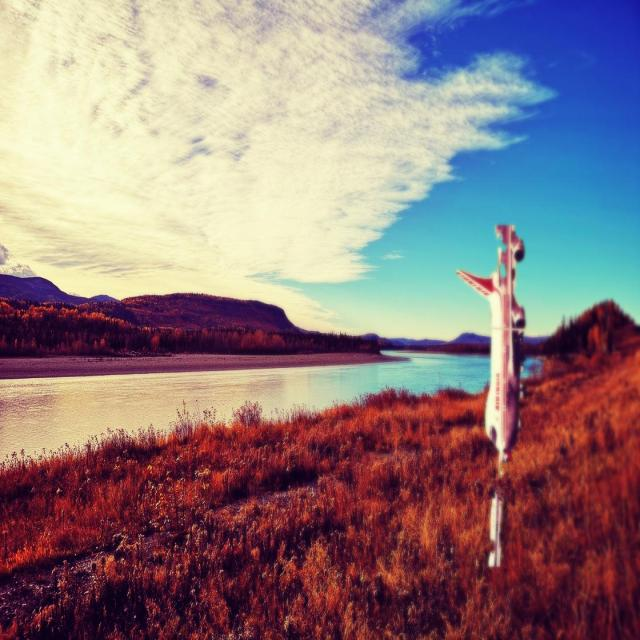airplane: (456, 223, 527, 567)
